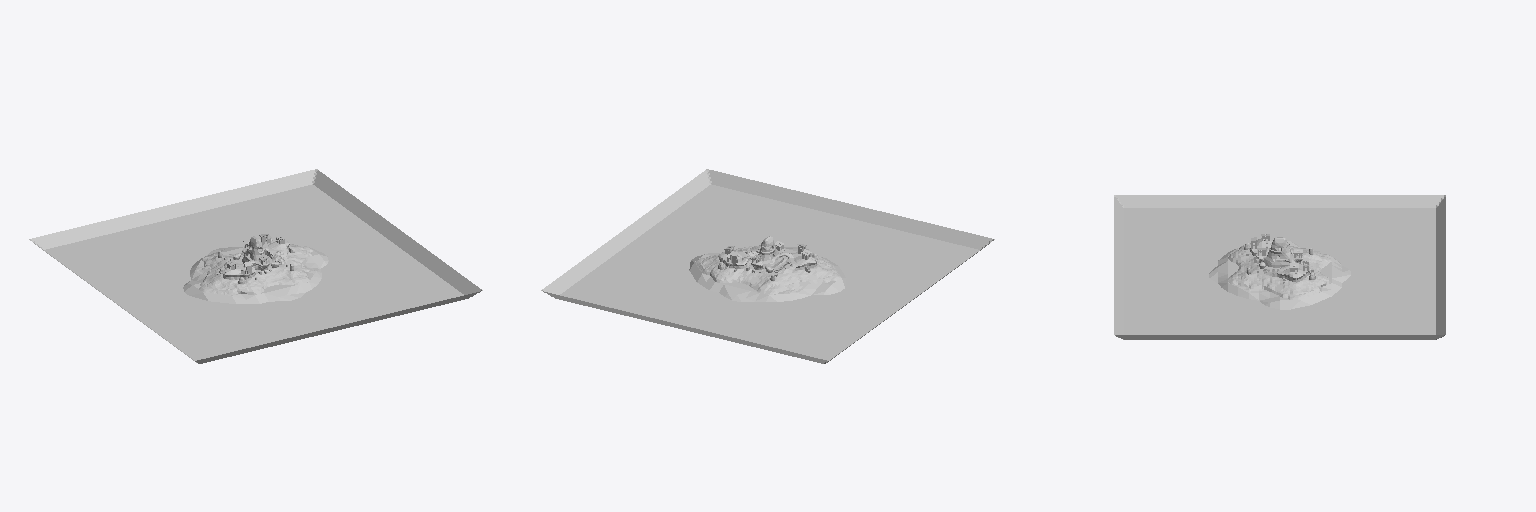
File: eeew.obj
3 views of the same model, side by side, from view 1: azimuth 30°, elevation 25°; view 2: azimuth 150°, elevation 25°; view 3: azimuth 270°, elevation 25° (orthographic).
Visible parts, largest first — view 1: slot959, slot1032, slot1009; view 2: slot959, slot1032, slot1009; view 3: slot959, slot1032, slot1009.
Part boxes in pixels (left/top/right/bottom): slot959: left=29, top=169, right=482, bottom=363; slot1032: left=222, top=236, right=289, bottom=279; slot1009: left=221, top=241, right=290, bottom=280; slot959: left=541, top=169, right=994, bottom=363; slot1032: left=719, top=236, right=816, bottom=271; slot1009: left=717, top=248, right=818, bottom=275; slot959: left=1114, top=195, right=1445, bottom=339; slot1032: left=1250, top=237, right=1309, bottom=281; slot1009: left=1249, top=238, right=1315, bottom=282.
Size of the model in its own units: 4096 by 500 by 4096.